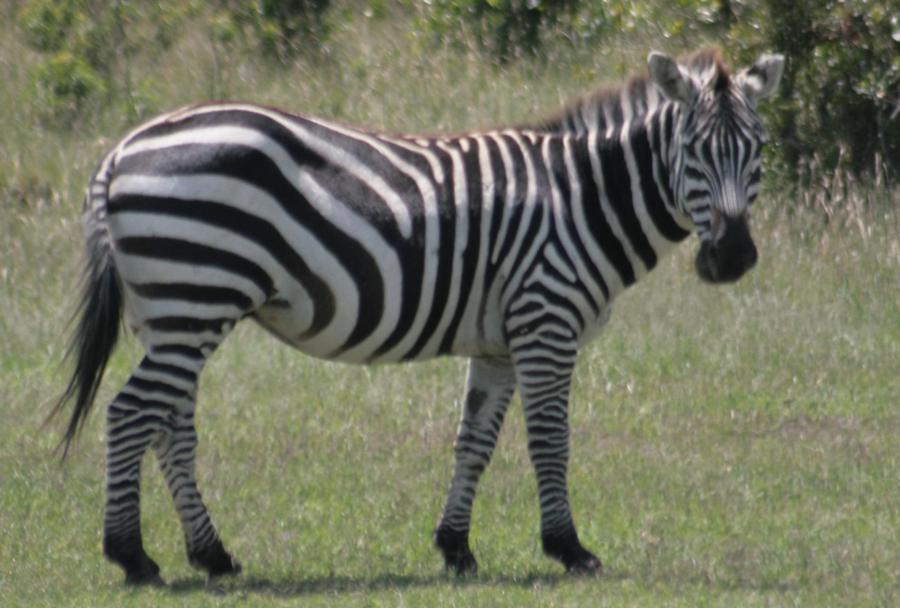zebra_plains: (102, 83, 608, 369)
